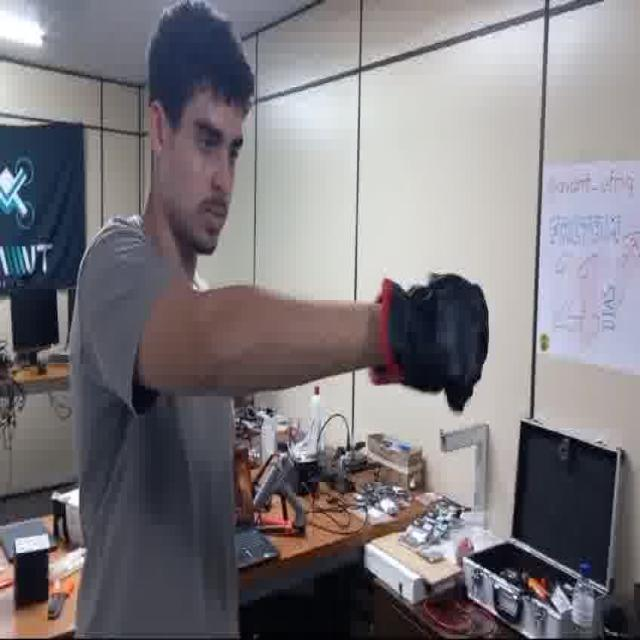Gloves: (376, 248, 488, 428)
